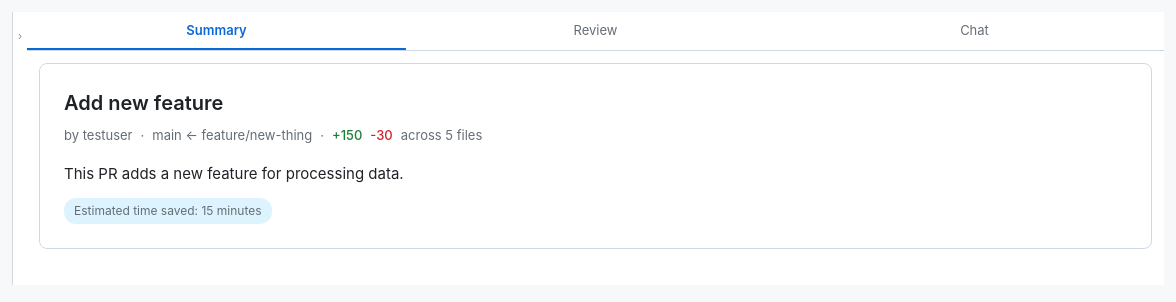
it: RightRail › switches to Chat tab and shows chat content
Click the button "Chat": point(974, 31) 785,12 -> 1164,50
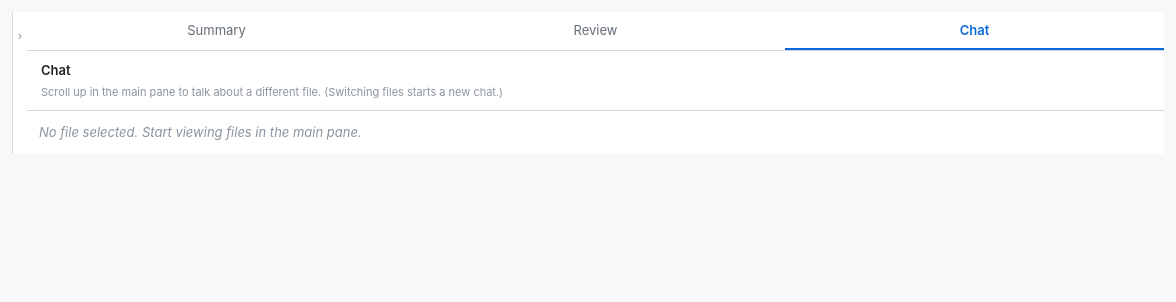
Result: the text "No file selected. Start viewing files in the main pane." is shown at 39,124 -> 362,140
